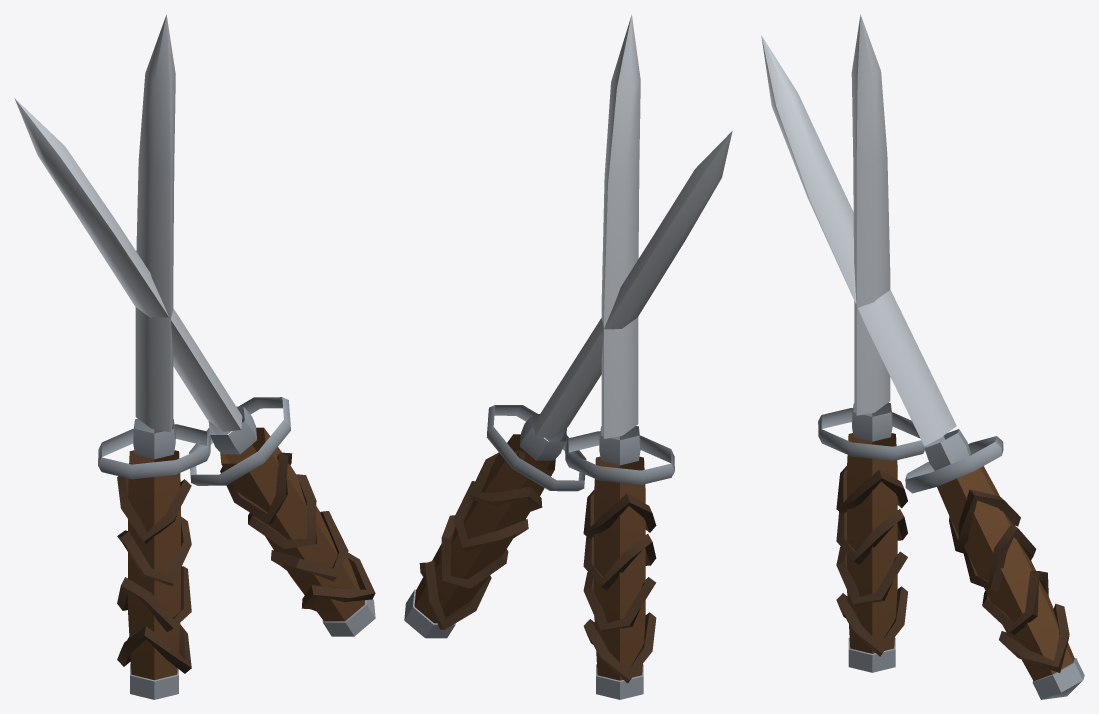
The model's file is tanto-iron.glb.
The picture shows the model from 3 angles, left to right: view 1: azimuth 30°, elevation 25°; view 2: azimuth 150°, elevation 25°; view 3: azimuth 330°, elevation 25°; orthographic projection. The views are drawn at different scales.
Parts seen in each view (by area): view 1: tanto-iron, OffHand; view 2: tanto-iron, OffHand; view 3: OffHand, tanto-iron.
Boxes of the visible parts, left/top/right/bottom form: tanto-iron: left=98, top=14, right=210, bottom=699; OffHand: left=14, top=98, right=375, bottom=636; tanto-iron: left=565, top=14, right=674, bottom=699; OffHand: left=404, top=131, right=732, bottom=638; OffHand: left=761, top=35, right=1084, bottom=699; tanto-iron: left=818, top=14, right=924, bottom=672.
Bounding box in the file's own units: 0.197 × 0.375 × 0.0448.
